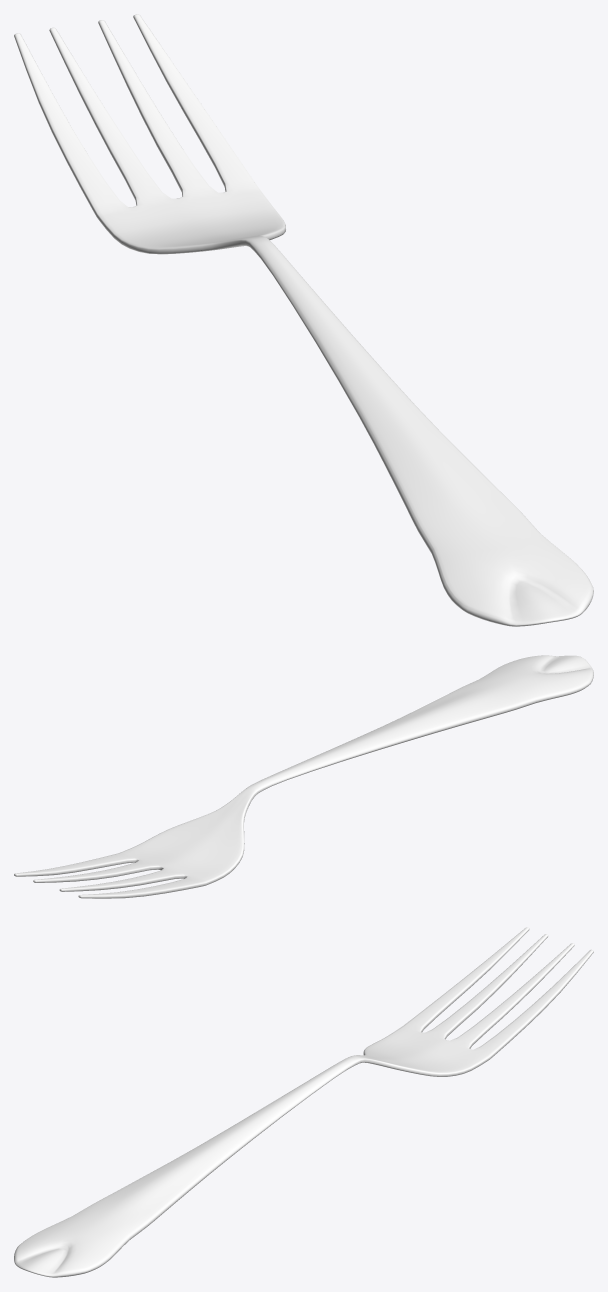
Rendered from cha.fbx.
The picture shows the model from 3 angles, top to bottom: view 1: azimuth 30°, elevation 25°; view 2: azimuth 150°, elevation 25°; view 3: azimuth 330°, elevation 25°; orthographic projection. The views are drawn at different scales.
Visible parts, largest first — view 1: polySurface3; view 2: polySurface3; view 3: polySurface3.
Boxes of the visible parts, x1,y1,x2,y2 form: polySurface3: (14,14,593,626); polySurface3: (14,655,593,898); polySurface3: (14,927,593,1277).
Size of the model in its own units: 6.12 by 1.83 by 24.5.
